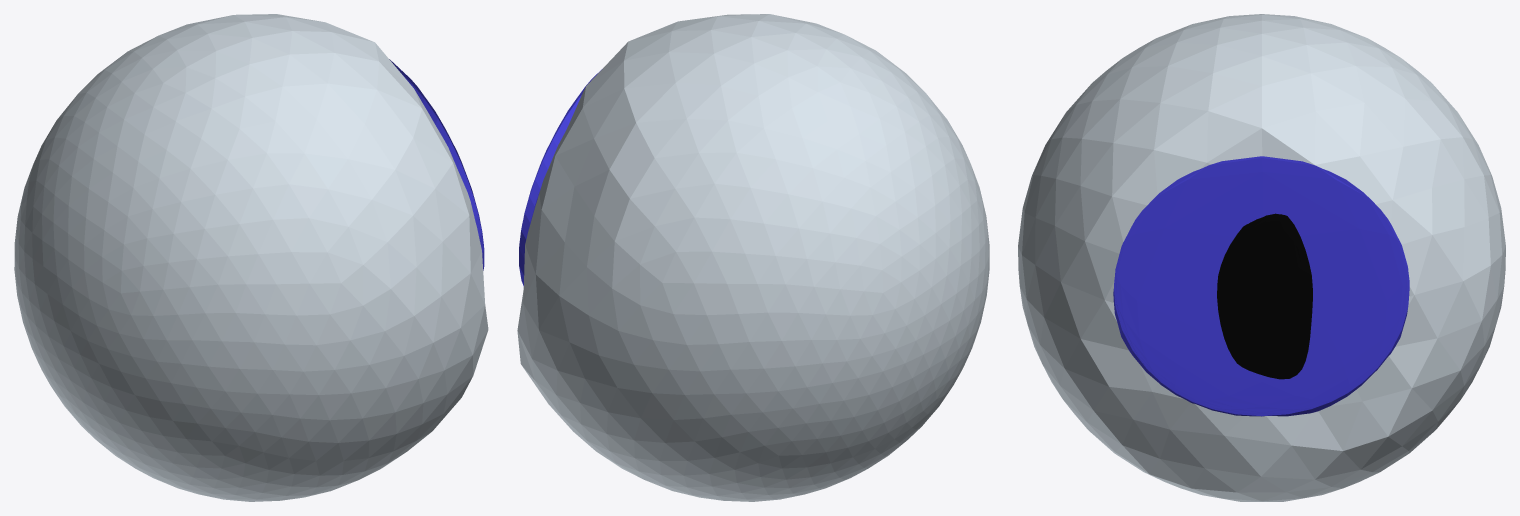
Rendered from eye_enemy.glb.
3 views of the same model, side by side, from view 1: azimuth 30°, elevation 25°; view 2: azimuth 150°, elevation 25°; view 3: azimuth 270°, elevation 25° (orthographic).
Parts seen in each view (by area): view 1: iris.001, iris; view 2: iris.001, iris; view 3: iris.001, iris, pupil.
Part boxes in pixels (x1,y1,x2,y2): iris.001: [14, 14, 488, 501]; iris: [389, 59, 484, 270]; iris.001: [517, 14, 989, 501]; iris: [519, 69, 601, 286]; iris.001: [1018, 14, 1505, 501]; iris: [1113, 156, 1409, 416]; pupil: [1217, 213, 1312, 379].
Size of the model in its own units: 1.3 by 1.44 by 1.44.
